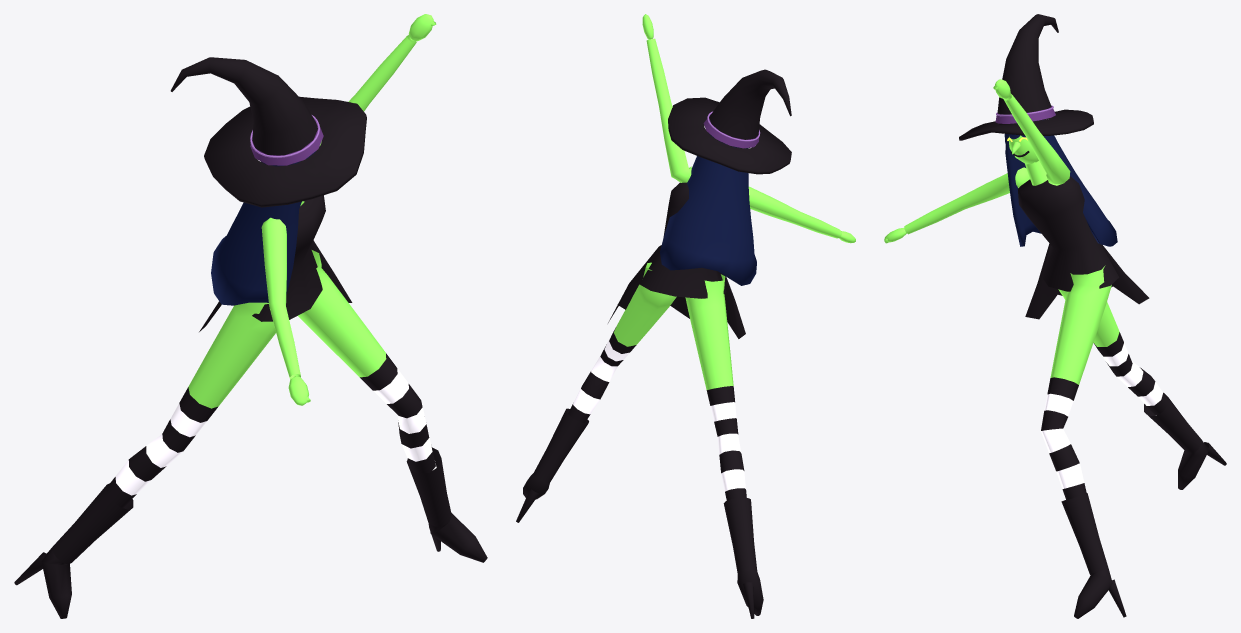
The model's file is witch_happy_solo_c.glb.
3 views of the same model, side by side, from view 1: azimuth 30°, elevation 25°; view 2: azimuth 150°, elevation 25°; view 3: azimuth 270°, elevation 25° (orthographic). The views are drawn at different scales.
Parts seen in each view (by area): view 1: HWG_WitchHappy_solo_c; view 2: HWG_WitchHappy_solo_c; view 3: HWG_WitchHappy_solo_c.
Boxes of the visible parts, x1,y1,x2,y2 form: HWG_WitchHappy_solo_c: (14,14,487,618); HWG_WitchHappy_solo_c: (516,14,855,618); HWG_WitchHappy_solo_c: (884,14,1226,618).
Size of the model in its own units: 0.8012 by 1.25 by 0.7587.
